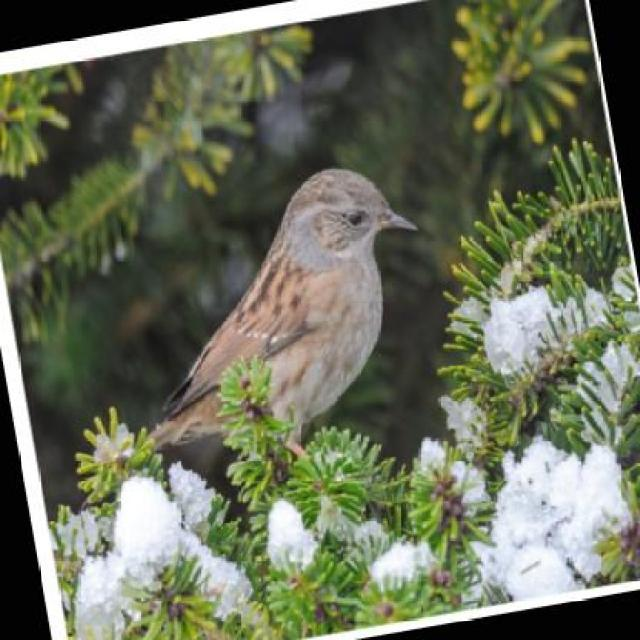Bird: (179, 163, 422, 456)
